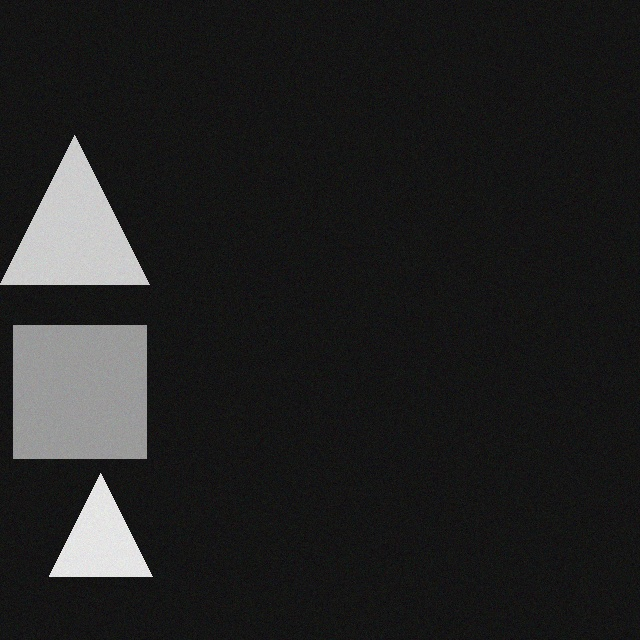square: (26, 336, 159, 469)
triangle: (13, 146, 162, 295), (62, 484, 165, 587)
